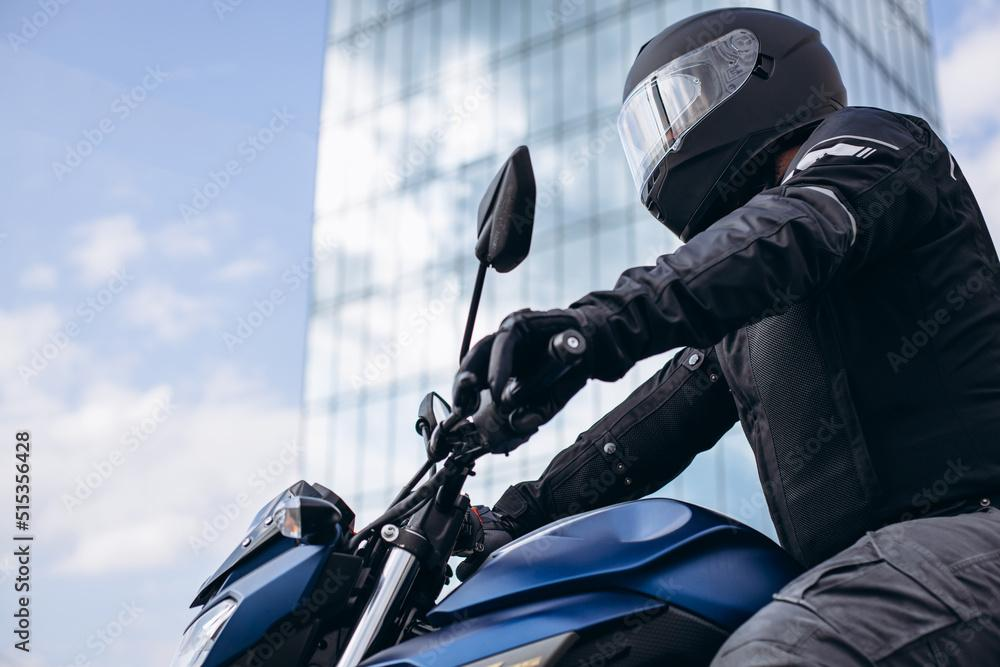helmet: (615, 5, 849, 245)
